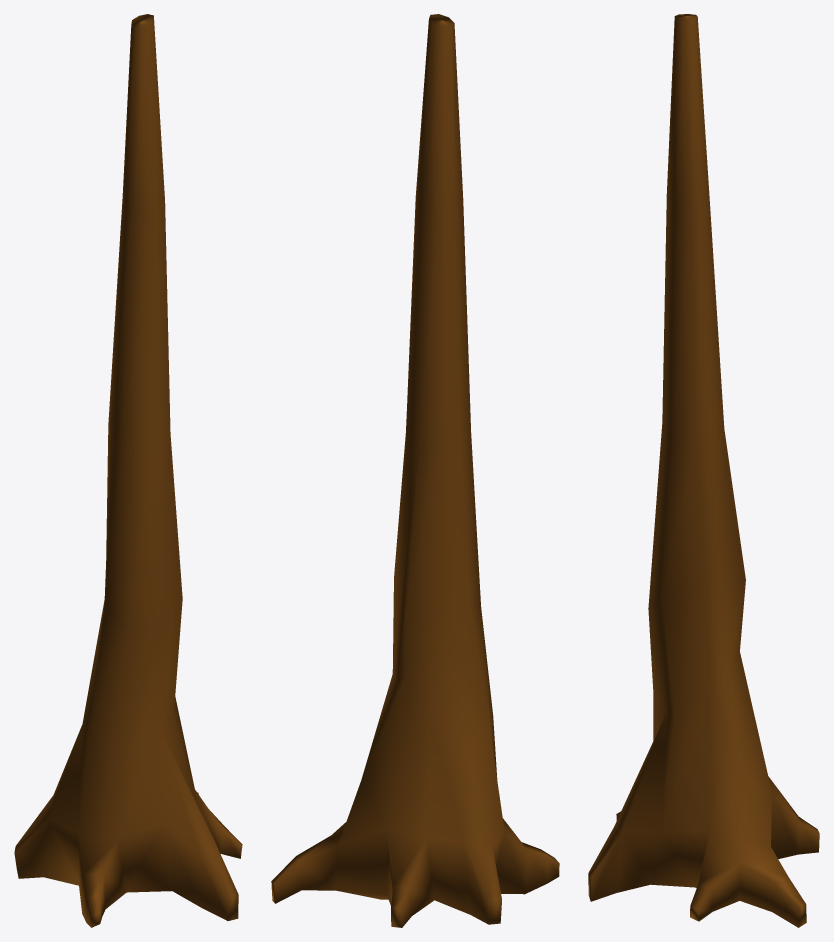
The model's file is Tree_Bark_v01.fbx.
3 views of the same model, side by side, from view 1: azimuth 30°, elevation 25°; view 2: azimuth 150°, elevation 25°; view 3: azimuth 270°, elevation 25° (orthographic).
Visible parts, largest first — view 1: Tree_bark; view 2: Tree_bark; view 3: Tree_bark.
Part boxes in pixels (x1=…): Tree_bark: x1=14, y1=14, x2=242, y2=927; Tree_bark: x1=271, y1=14, x2=559, y2=927; Tree_bark: x1=588, y1=14, x2=819, y2=927.
Size of the model in its own units: 92.03 by 371 by 89.83.
